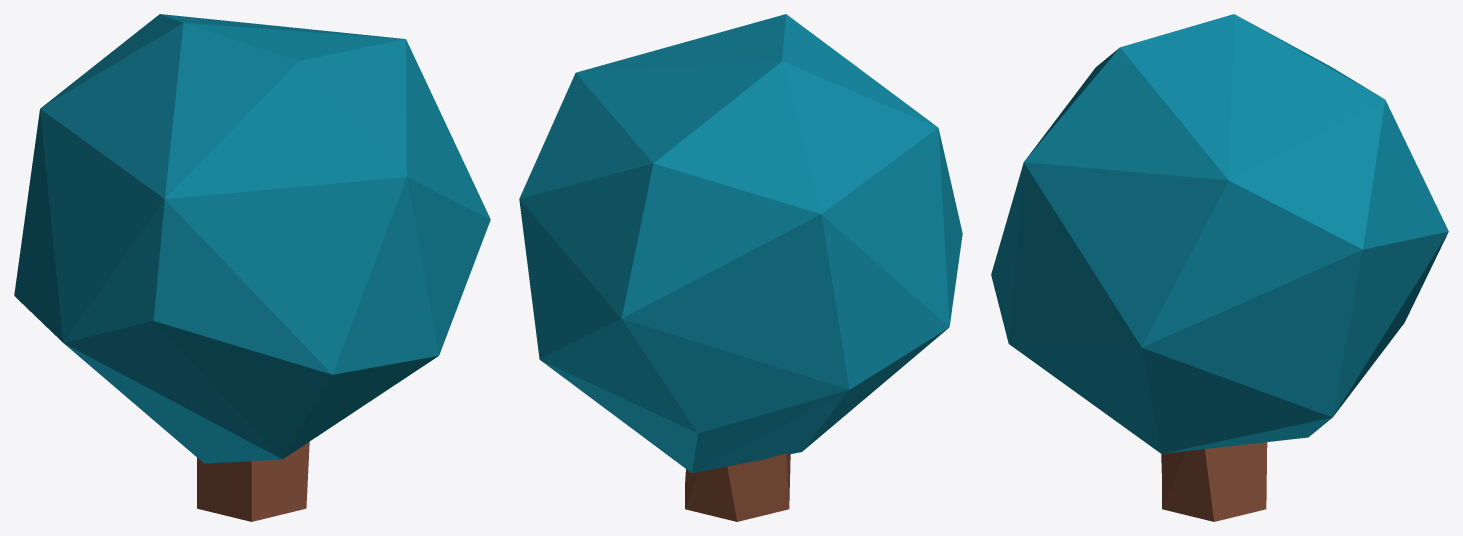
The model's file is Bush_3_summer_blue_mat.fbx.
3 renders of one model, left to right at view 1: azimuth 30°, elevation 25°; view 2: azimuth 150°, elevation 25°; view 3: azimuth 270°, elevation 25°, orthographic. The views are drawn at different scales.
Parts seen in each view (by area): view 1: Bush_3_summer_blue_mat; view 2: Bush_3_summer_blue_mat; view 3: Bush_3_summer_blue_mat.
Boxes of the visible parts, <box> form: Bush_3_summer_blue_mat: <box>14,14,490,521</box>; Bush_3_summer_blue_mat: <box>519,14,962,521</box>; Bush_3_summer_blue_mat: <box>991,14,1448,521</box>.
Size of the model in its own units: 35 by 39.36 by 35.84.
